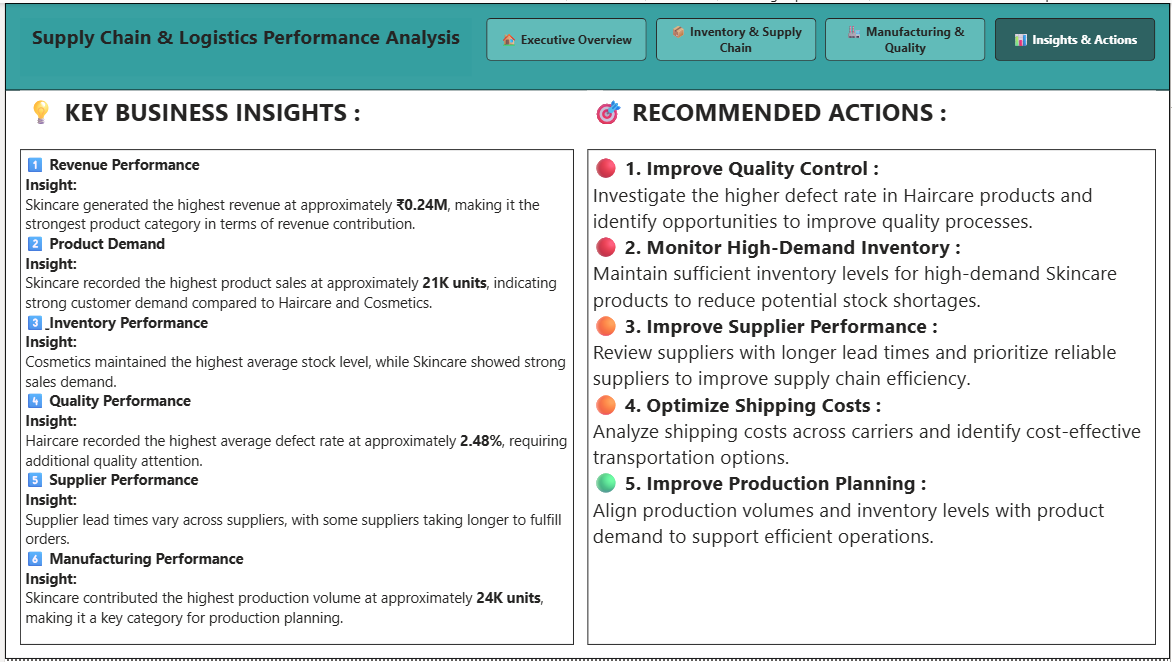

This screenshot's page, from the dashboard's own definition file:
{"tool":"powerbi","page":{"name":"📊 Insights & Actions","canvas":[1280,720],"ordinal":3},"visuals":[{"type":"shape","box":[0,0,1280,720],"z":0},{"type":"textbox","box":[16,160,608,544],"z":1000},{"type":"shape","box":[0,0,1280,96],"z":2000},{"type":"pageNavigator","box":[528,16,736,48],"z":3000},{"type":"textbox","box":[16,16,496,64],"z":4000},{"type":"textbox","box":[16,96,640,64],"z":5000},{"type":"textbox","box":[640,160,624,544],"z":6000},{"type":"textbox","box":[640,96,624,64],"z":7000}]}

Visuals, with their boxes in screenshot pixels (x1, y1, x2, y2), scaled from the page's 1280x720 canvas onto the 1172x662 screenshot:
shape: 0,0,1171,661
textbox: 15,147,571,647
shape: 0,0,1171,88
pageNavigator: 483,15,1157,59
textbox: 15,15,469,74
textbox: 15,88,601,147
textbox: 586,147,1157,647
textbox: 586,88,1157,147
